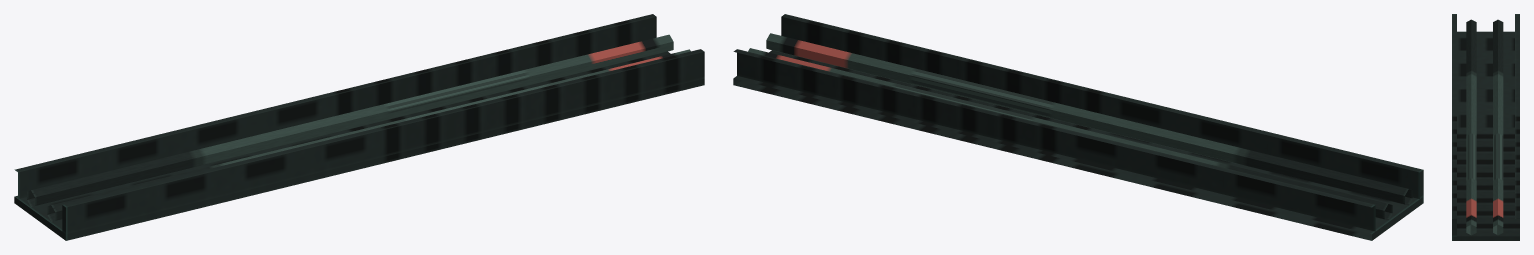
File: SM_MachProp_CableTray_200x30x10.fbx
The picture shows the model from 3 angles, left to right: view 1: azimuth 30°, elevation 25°; view 2: azimuth 150°, elevation 25°; view 3: azimuth 270°, elevation 25°; orthographic projection. The views are drawn at different scales.
Visible parts, largest first — view 1: SM_MachProp_CableTray_200x30x10.001; view 2: SM_MachProp_CableTray_200x30x10.001; view 3: SM_MachProp_CableTray_200x30x10.001.
Part boxes in pixels (x1,y1,x2,y2): SM_MachProp_CableTray_200x30x10.001: [14, 14, 704, 240]; SM_MachProp_CableTray_200x30x10.001: [733, 14, 1423, 240]; SM_MachProp_CableTray_200x30x10.001: [1452, 14, 1519, 240].
Size of the model in its own units: 2 by 0.1 by 0.28.
